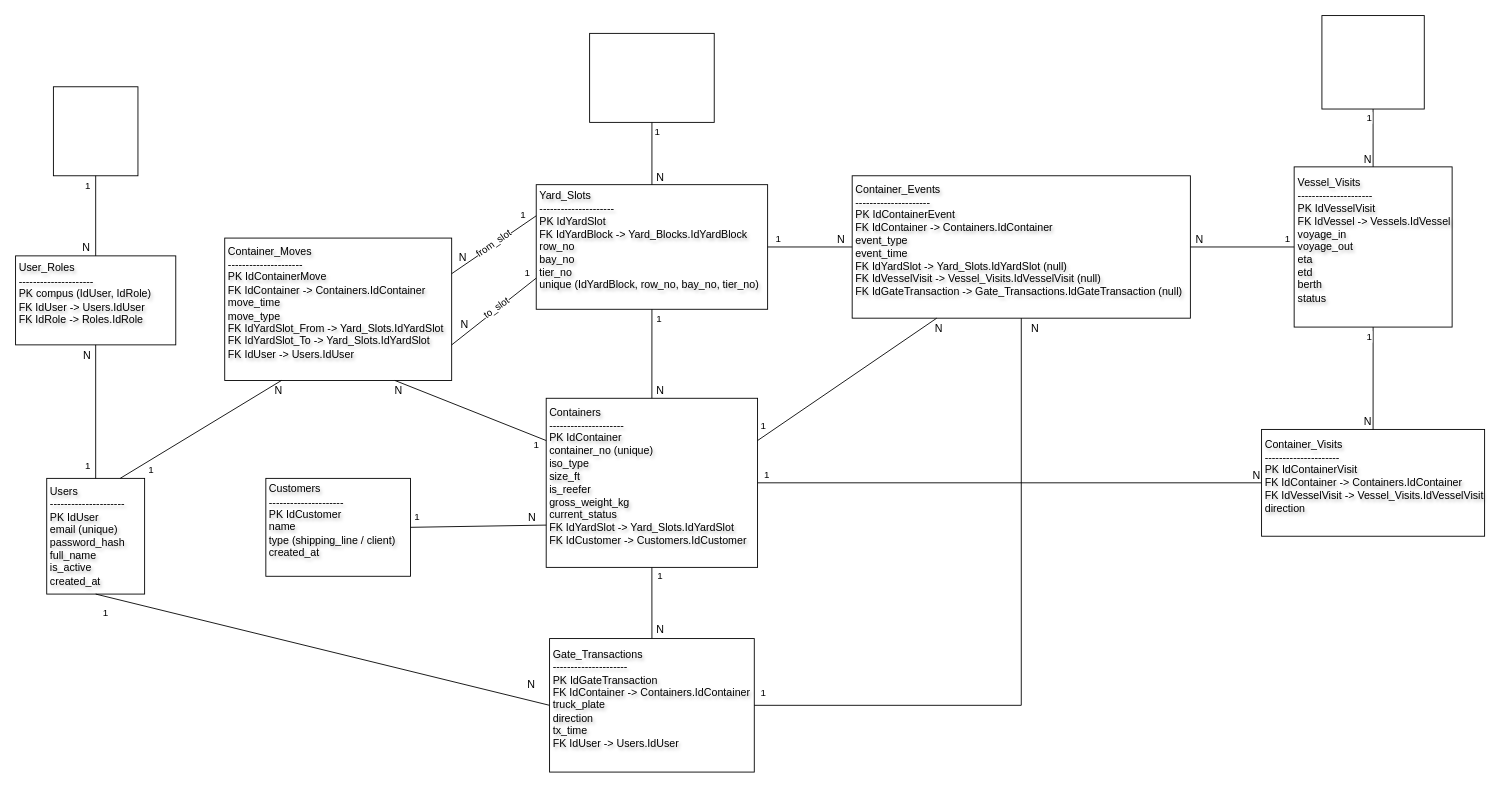
This 1501x788 diagram has some shape labels left out. The shapes that lost their labels are listed below. From the top down, each one's centre as x and y in pixels, then its label:
At (651,77): "Yard_Blocks --------------------- PK IdYardBlock code (unique) is_reefer".
At (1372,62): "Vessels --------------------- PK IdVessel name imo (unique)".
At (95,131): "Roles --------------------- PK IdRole code (unique)".
